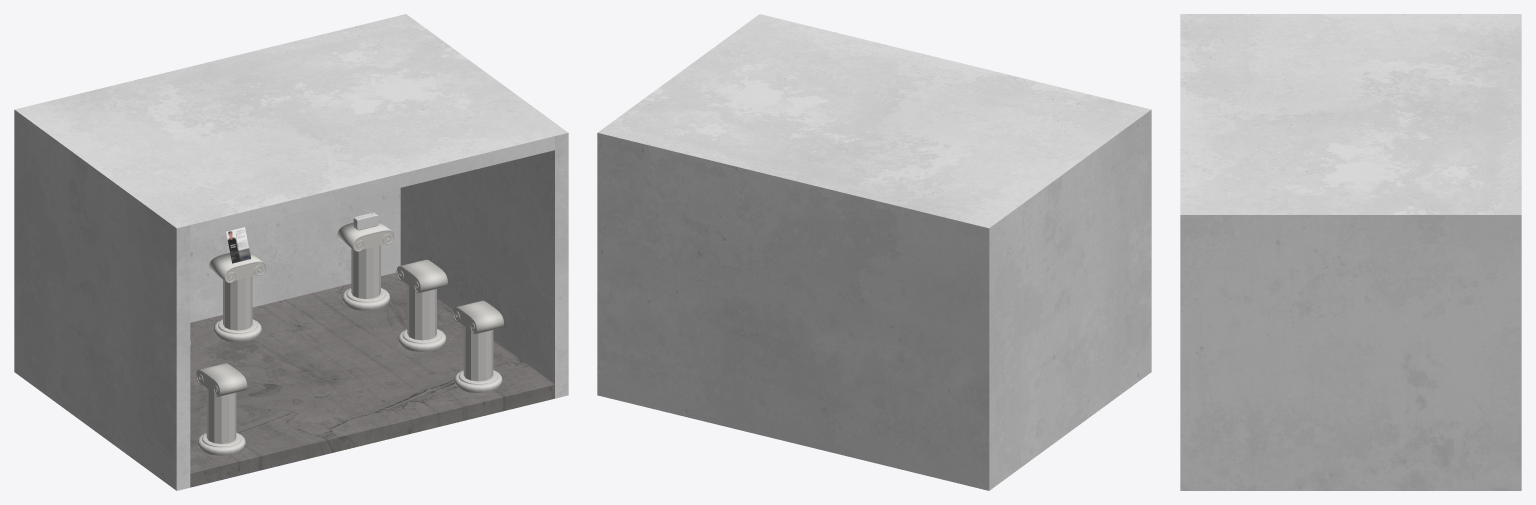
Rendered from Museo.glb.
The picture shows the model from 3 angles, left to right: view 1: azimuth 30°, elevation 25°; view 2: azimuth 150°, elevation 25°; view 3: azimuth 270°, elevation 25°; orthographic projection. The views are drawn at different scales.
Parts seen in each view (by area): view 1: Habitacion museo, Columna1, Columna7, Columna6, Columna5, Columna4, Porfolio; view 2: Habitacion museo; view 3: Habitacion museo.
Boxes of the visible parts, <box> form: Habitacion museo: <box>14,14,568,490</box>; Columna1: <box>196,363,247,455</box>; Columna7: <box>453,300,503,392</box>; Columna6: <box>396,259,447,351</box>; Columna5: <box>337,221,394,310</box>; Columna4: <box>209,252,266,342</box>; Porfolio: <box>226,227,250,263</box>; Habitacion museo: <box>597,14,1151,490</box>; Habitacion museo: <box>1180,14,1521,490</box>.
Size of the model in its own units: 6.12 by 3.92 by 4.39.
Materials: 17 (4 with a texture image).
